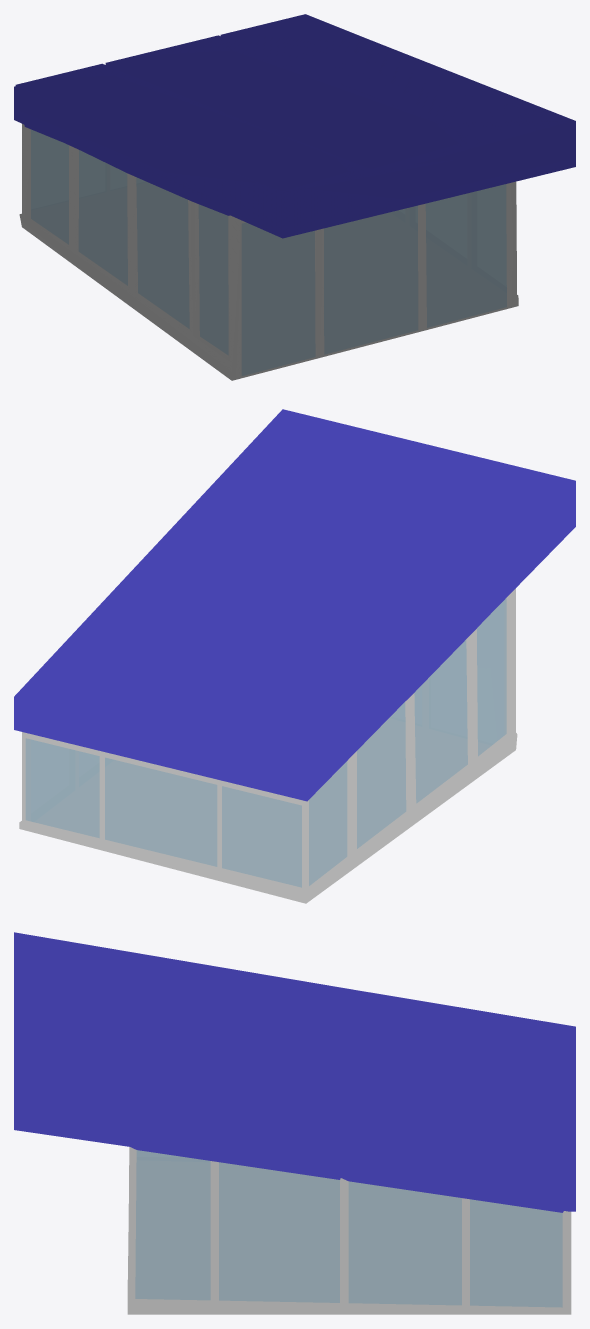
3 views of the same model, one above another, from view 1: azimuth 30°, elevation 25°; view 2: azimuth 150°, elevation 25°; view 3: azimuth 270°, elevation 25° (orthographic). The views are drawn at different scales.
Parts seen in each view (by area): view 1: Cube.12; view 2: Cube.12; view 3: Cube.12.
Part boxes in pixels (x1=…): Cube.12: x1=14, y1=14, x2=575, y2=380; Cube.12: x1=14, y1=409, x2=575, y2=903; Cube.12: x1=14, y1=932, x2=575, y2=1314.
Bounding box in the file's own units: 118 × 88.79 × 188.
